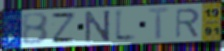B: (21, 12, 50, 46)
L: (113, 7, 139, 43)
N: (84, 9, 112, 44)
R: (174, 7, 201, 39)
T: (146, 7, 173, 42)
Z: (50, 12, 78, 44)
